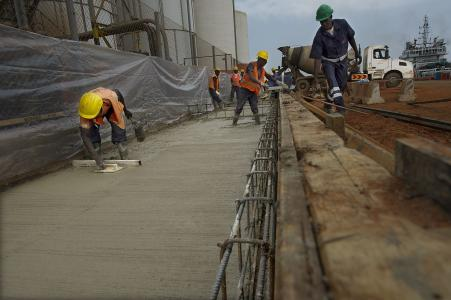gloves: (95, 161, 105, 169), (354, 55, 361, 64)
hard-hat: (79, 92, 103, 119), (315, 4, 333, 21), (257, 49, 269, 59)
mask: (320, 19, 332, 30)
person: (308, 3, 361, 114), (78, 86, 132, 170), (231, 49, 271, 125)
ppe-suit: (308, 3, 362, 114)
vest: (240, 60, 267, 97)
